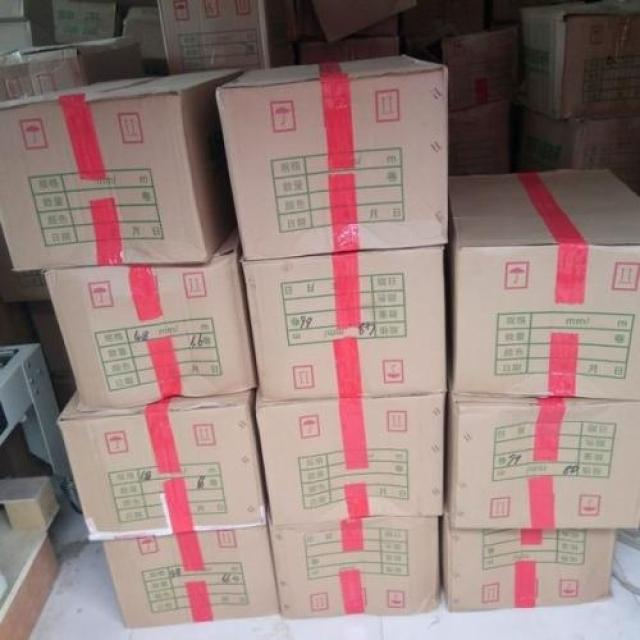box: (0, 69, 238, 273), (221, 58, 449, 260), (447, 164, 640, 401), (38, 221, 259, 408), (55, 388, 271, 540), (243, 247, 445, 404), (250, 385, 448, 526), (449, 392, 640, 531), (268, 517, 443, 622), (100, 526, 279, 628), (442, 517, 621, 607), (516, 1, 640, 120), (515, 97, 639, 192), (0, 40, 146, 101), (443, 24, 522, 115), (448, 99, 516, 174), (308, 0, 415, 45), (406, 4, 492, 47), (294, 36, 401, 65), (123, 6, 168, 72), (50, 0, 119, 36), (0, 18, 55, 55), (0, 0, 50, 24)
